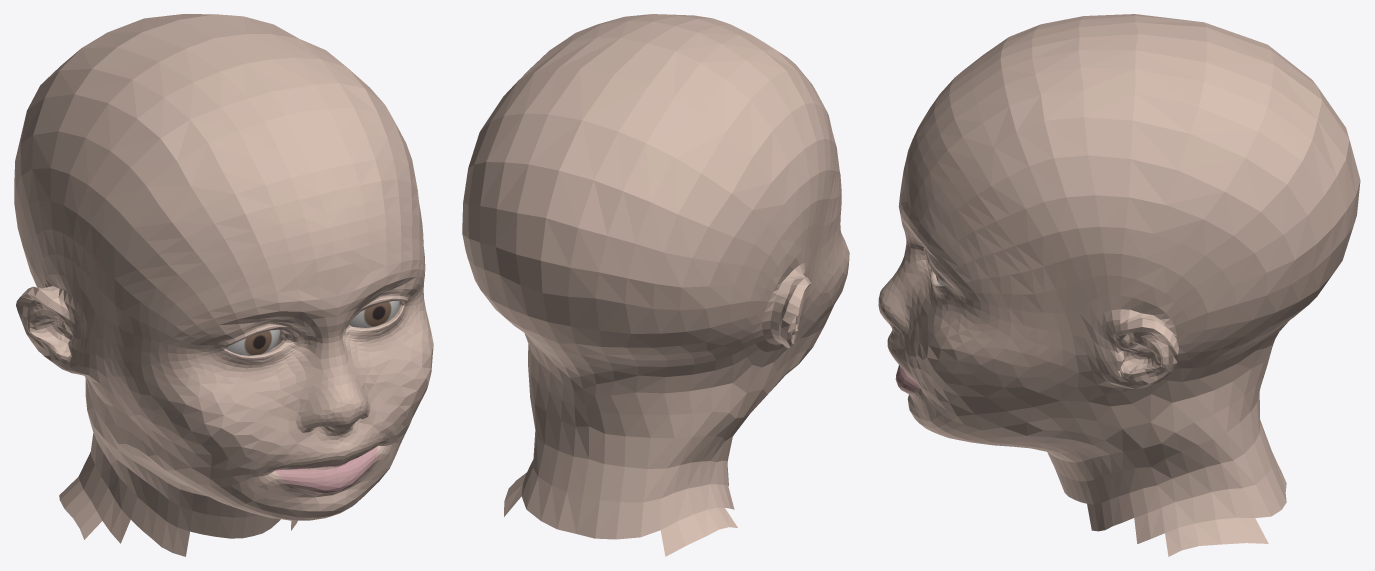
Rendered from karma_face_MH_neutral_AH.glb.
3 renders of one model, left to right at view 1: azimuth 30°, elevation 25°; view 2: azimuth 150°, elevation 25°; view 3: azimuth 270°, elevation 25°, orthographic. The views are drawn at different scales.
Visible parts, largest first — view 1: head; view 2: head; view 3: head.
Boxes of the visible parts, x1,y1,x2,y2 form: head: (14, 14, 433, 556); head: (462, 14, 849, 556); head: (878, 14, 1360, 556).
Size of the model in its own units: 3.03 by 3.91 by 3.62.
